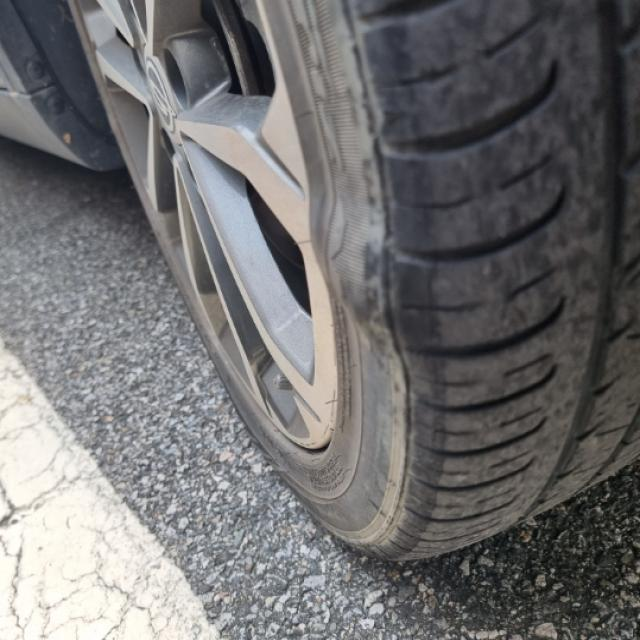Bulge: (311, 194, 444, 344)
